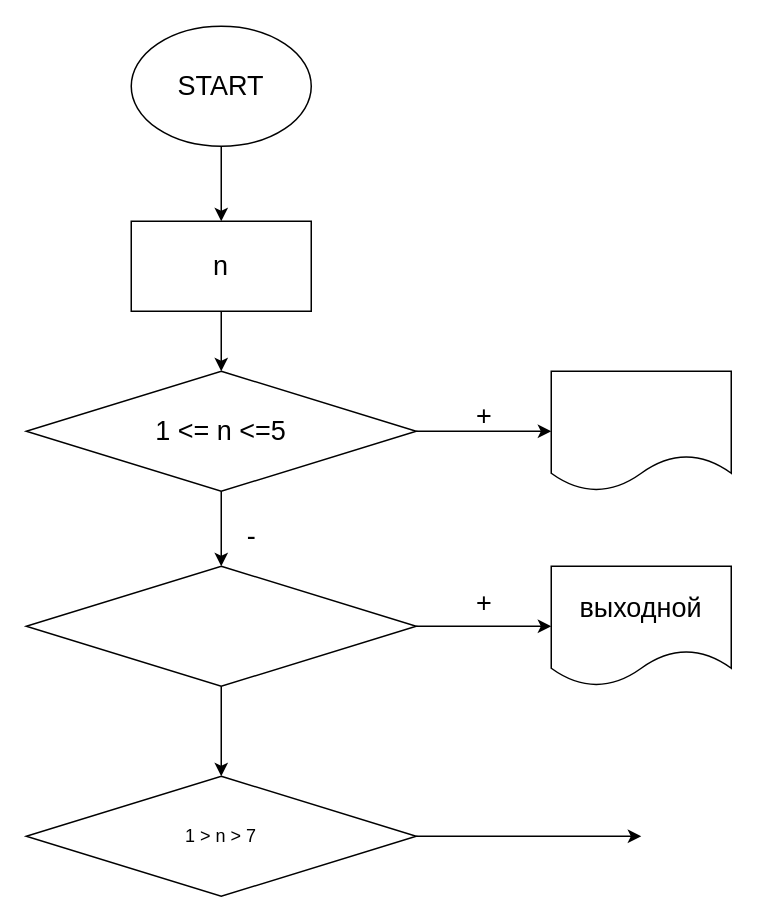
Some shapes in this 758 by 923 pixel diagram are drawn without their labels. Each missing label, with the centre of its shape:
"6 <= n <= 7" belongs at point (220, 625).
"рабочий день" belongs at point (640, 430).
